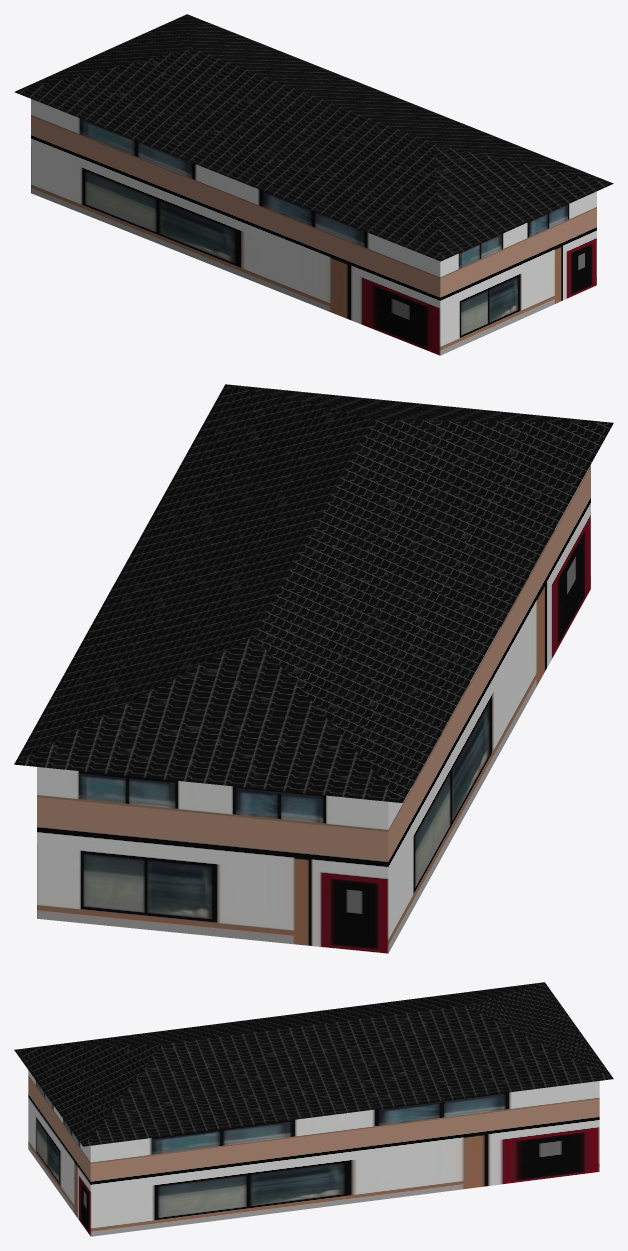
3 views of the same model, one above another, from view 1: azimuth 30°, elevation 25°; view 2: azimuth 150°, elevation 25°; view 3: azimuth 270°, elevation 25° (orthographic). The views are drawn at different scales.
Parts seen in each view (by area): view 1: CityEngineMaterial_14_m, CityEngineMaterial_5_m; view 2: CityEngineMaterial_14_m, CityEngineMaterial_5_m; view 3: CityEngineMaterial_14_m, CityEngineMaterial_5_m.
Part boxes in pixels (<box>): CityEngineMaterial_14_m: <box>14,14,613,261</box>; CityEngineMaterial_5_m: <box>31,99,596,355</box>; CityEngineMaterial_14_m: <box>14,384,613,802</box>; CityEngineMaterial_5_m: <box>37,465,590,953</box>; CityEngineMaterial_14_m: <box>14,982,613,1146</box>; CityEngineMaterial_5_m: <box>28,1070,599,1236</box>.
Bounding box in the file's own units: 31.85 × 12.24 × 49.08.
